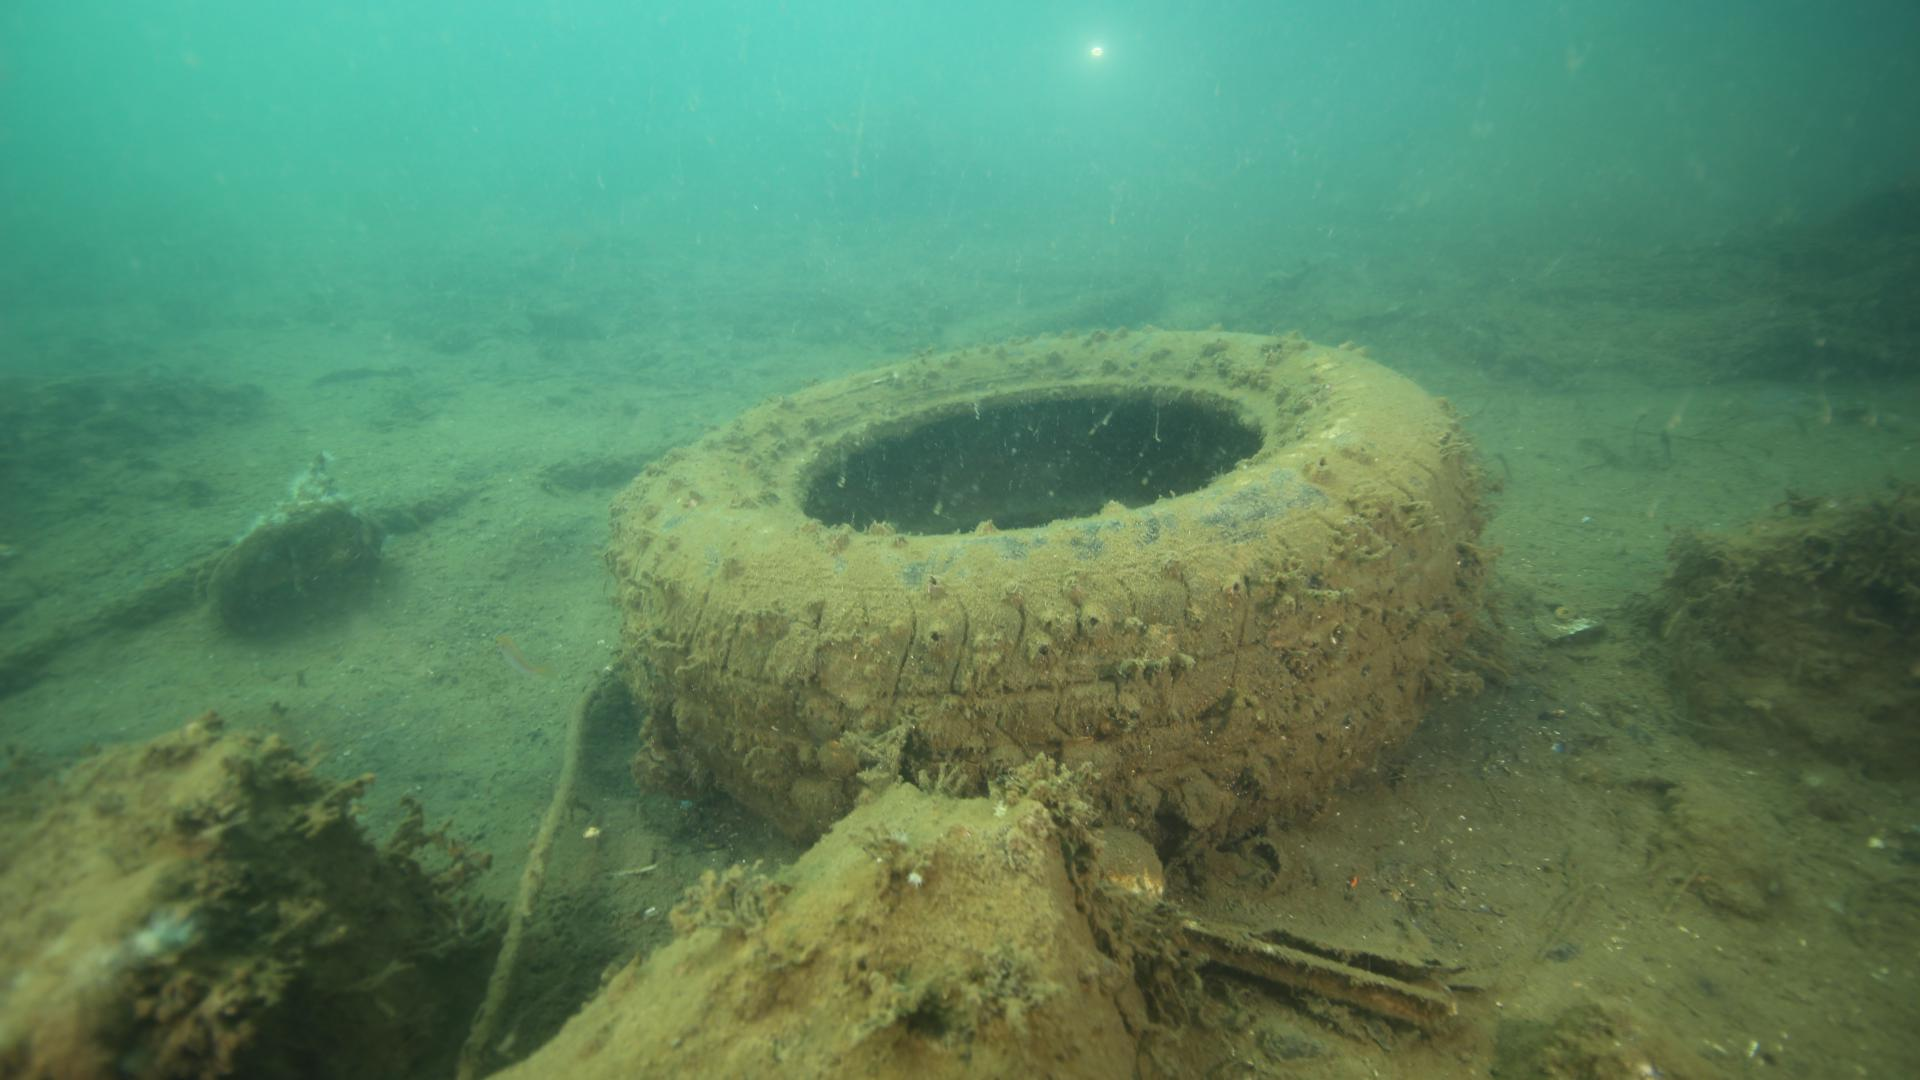tire: (612, 328, 1478, 865)
